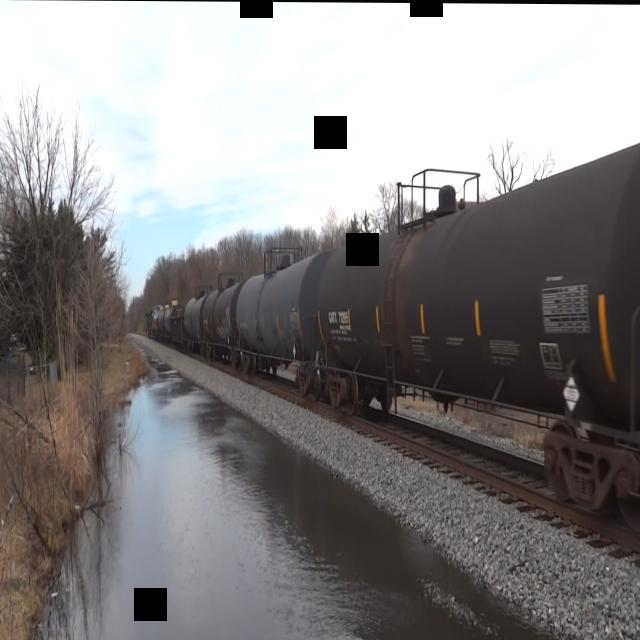tank: (314, 110, 640, 535), (232, 237, 328, 397), (200, 277, 240, 370)
